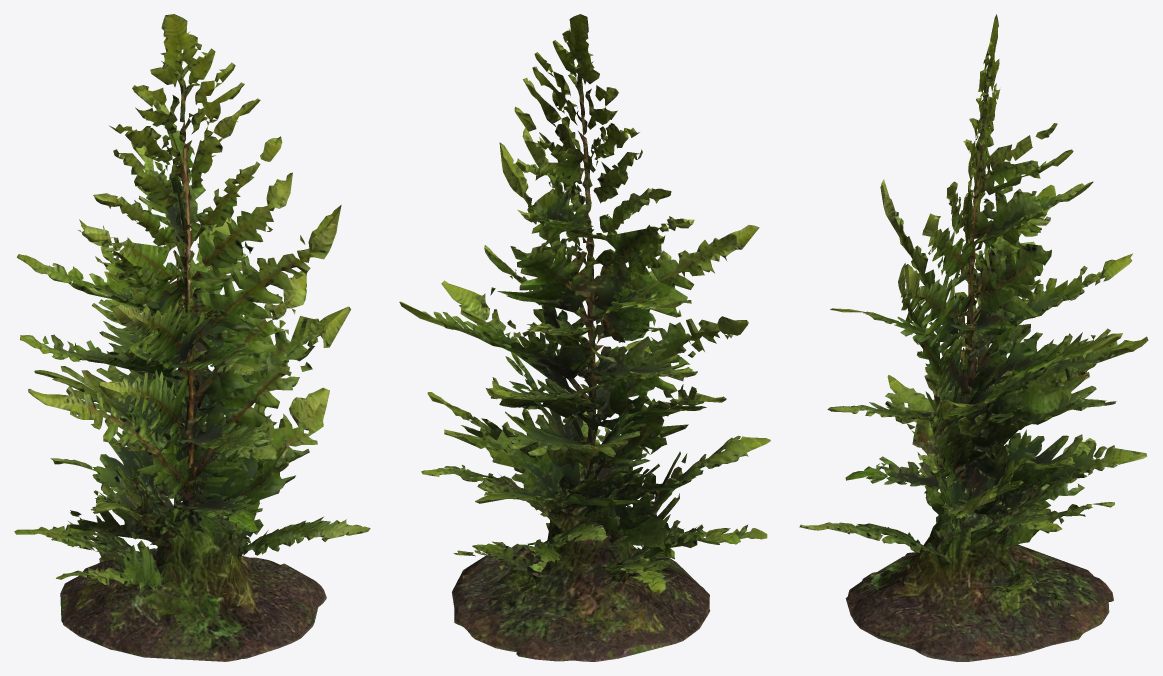
Rendered from plant_tree.glb.
The picture shows the model from 3 angles, left to right: view 1: azimuth 30°, elevation 25°; view 2: azimuth 150°, elevation 25°; view 3: azimuth 270°, elevation 25°; orthographic projection. The views are drawn at different scales.
Parts seen in each view (by area): view 1: output; view 2: output; view 3: output.
Boxes of the visible parts, x1,y1,x2,y2 form: output: [14, 14, 370, 661]; output: [399, 14, 770, 661]; output: [799, 14, 1148, 661].
Size of the model in its own units: 0.9488 by 1.7 by 0.9214.
Materials: 1 (1 with a texture image).
